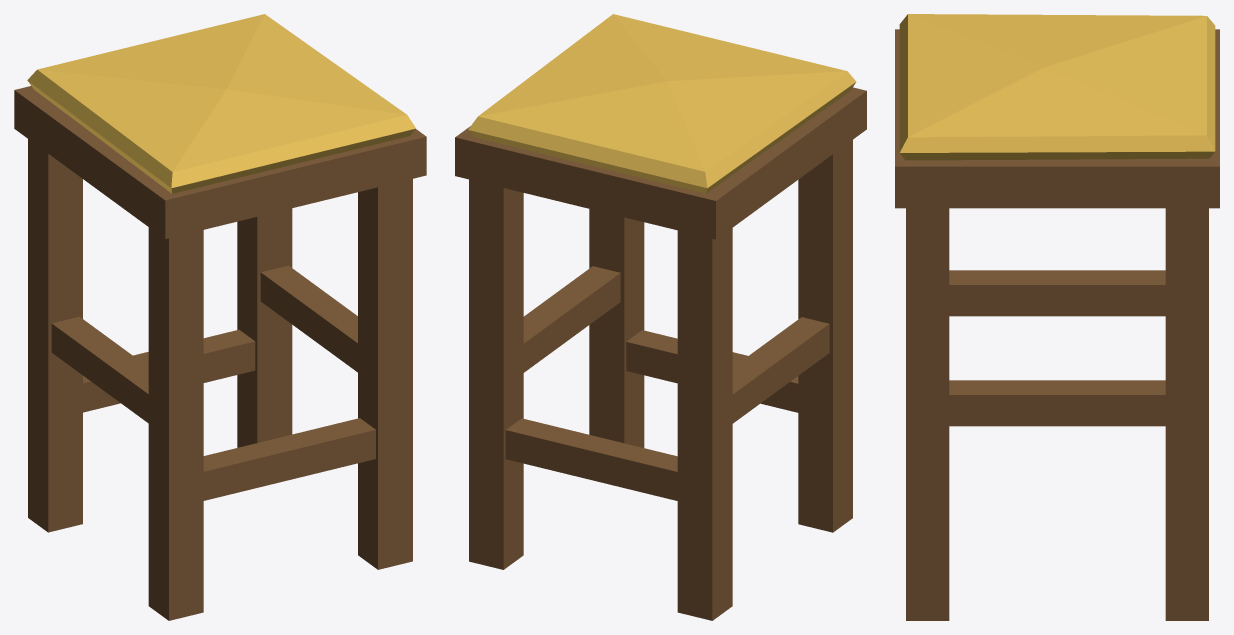
The model's file is Stool_1B.fbx.
3 views of the same model, side by side, from view 1: azimuth 30°, elevation 25°; view 2: azimuth 150°, elevation 25°; view 3: azimuth 270°, elevation 25° (orthographic). The views are drawn at different scales.
Parts seen in each view (by area): view 1: polySurface1842; view 2: polySurface1842; view 3: polySurface1842.
Part boxes in pixels (x1,y1,x2,y2): polySurface1842: (14, 14, 426, 620); polySurface1842: (455, 14, 866, 620); polySurface1842: (895, 14, 1219, 620).
Bounding box in the file's own units: 0.6 × 0.9972 × 0.6.
Materials: 1 (1 with a texture image).
